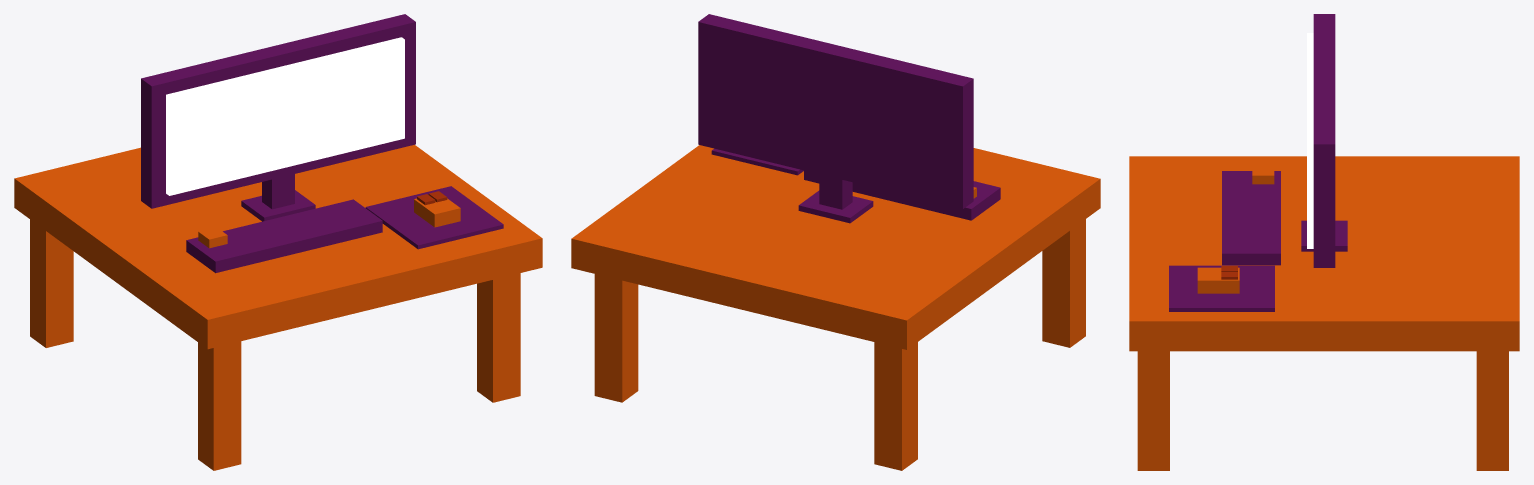
The model's file is computer.glb.
3 renders of one model, left to right at view 1: azimuth 30°, elevation 25°; view 2: azimuth 150°, elevation 25°; view 3: azimuth 270°, elevation 25°, orthographic.
Visible parts, largest first — view 1: Cube.003, Cube.001, Cube, Cube.002, Cube.006, Cube.007, Cube.008, Cube.011, Cube.005, Cube.012, Cube.004; view 2: Cube.003, Cube, Cube.009, Cube.008, Cube.006, Cube.002, Cube.005, Cube.004, Cube.011; view 3: Cube.003, Cube, Cube.002, Cube.007, Cube.009, Cube.011, Cube.001, Cube.012, Cube.005, Cube.010.
Boxes of the visible parts, x1=… form: Cube.003: x1=14, y1=144, x2=542, y2=349; Cube.001: x1=166, y1=37, x2=404, y2=195; Cube: x1=141, y1=14, x2=415, y2=208; Cube.002: x1=186, y1=199, x2=382, y2=273; Cube.006: x1=198, y1=341, x2=241, y2=470; Cube.007: x1=477, y1=273, x2=520, y2=402; Cube.008: x1=30, y1=219, x2=73, y2=347; Cube.011: x1=365, y1=186, x2=503, y2=249; Cube.005: x1=241, y1=190, x2=315, y2=221; Cube.012: x1=414, y1=198, x2=460, y2=227; Cube.004: x1=262, y1=174, x2=294, y2=209; Cube.003: x1=571, y1=145, x2=1100, y2=349; Cube: x1=698, y1=14, x2=973, y2=208; Cube.009: x1=594, y1=274, x2=638, y2=402; Cube.008: x1=874, y1=342, x2=917, y2=470; Cube.006: x1=1042, y1=219, x2=1085, y2=347; Cube.002: x1=804, y1=170, x2=1000, y2=220; Cube.005: x1=798, y1=190, x2=873, y2=223; Cube.004: x1=819, y1=174, x2=852, y2=209; Cube.011: x1=711, y1=148, x2=803, y2=175; Cube.003: x1=1129, y1=156, x2=1519, y2=351; Cube: x1=1313, y1=14, x2=1335, y2=267; Cube.002: x1=1222, y1=171, x2=1280, y2=265; Cube.007: x1=1137, y1=351, x2=1169, y2=470; Cube.009: x1=1476, y1=351, x2=1508, y2=470; Cube.011: x1=1169, y1=265, x2=1274, y2=311; Cube.001: x1=1307, y1=33, x2=1313, y2=248; Cube.012: x1=1197, y1=267, x2=1239, y2=293; Cube.005: x1=1301, y1=220, x2=1347, y2=251; Cube.010: x1=1252, y1=166, x2=1274, y2=184.
Size of the model in its own units: 5.72 by 5.14 by 5.72.
